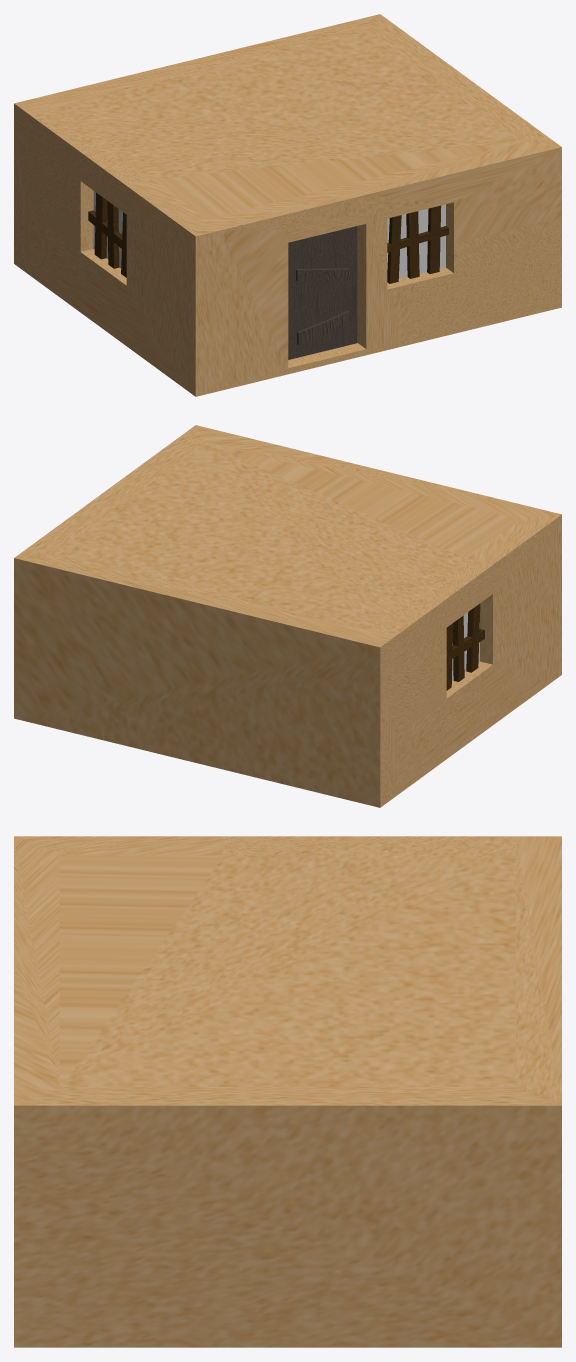
The model's file is dom1.11(pokras2).fbx.
The picture shows the model from 3 angles, top to bottom: view 1: azimuth 30°, elevation 25°; view 2: azimuth 150°, elevation 25°; view 3: azimuth 270°, elevation 25°; orthographic projection. The views are drawn at different scales.
Parts seen in each view (by area): view 1: korpus, dver, steklo2; view 2: korpus; view 3: korpus.
Boxes of the visible parts, box(x1,y1,x2,y2) form: korpus: box(14, 14, 561, 396); dver: box(288, 226, 357, 359); steklo2: box(387, 204, 445, 278); korpus: box(14, 425, 561, 807); korpus: box(14, 836, 561, 1347).
Size of the model in its own units: 1400 by 586 by 1203.
4 materials, 2 textured.
